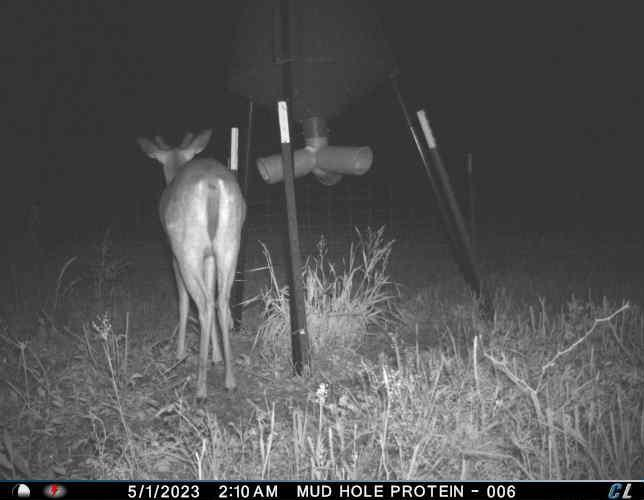Deer: (130, 122, 251, 406)
